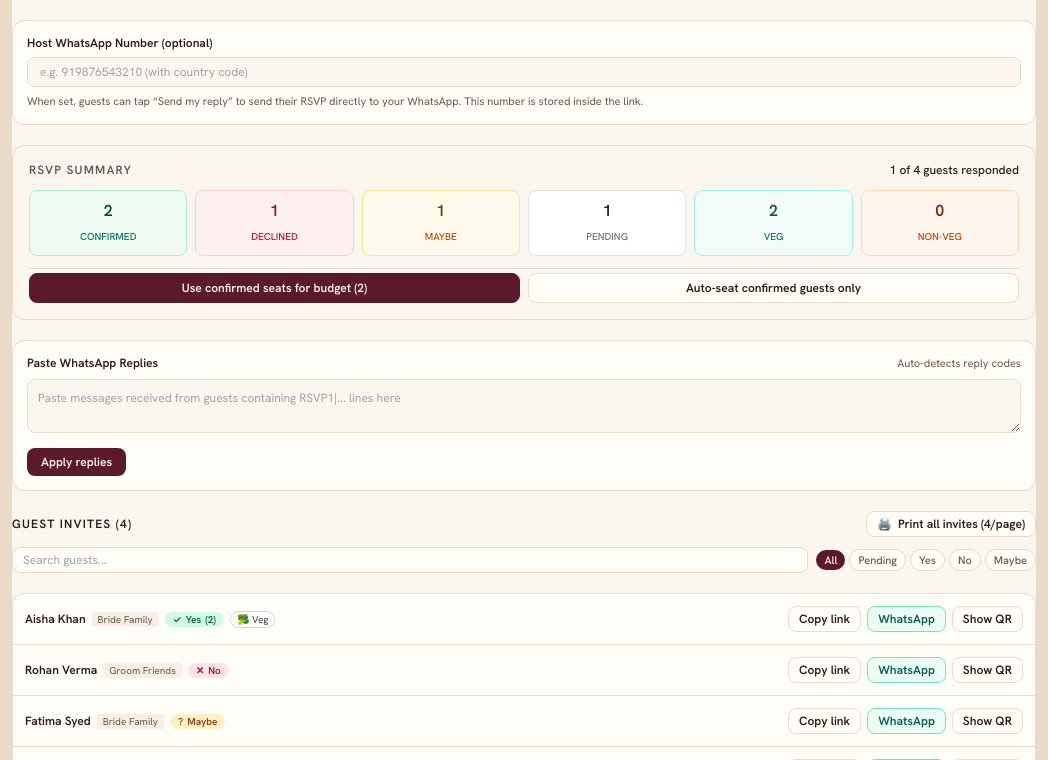
Test case: InvitesPanel (Host Side Management) › handles Paste Replies box: updates valid guests and ignores unknown IDs
Step 1. Replace the text in the text box labelled "Paste WhatsApp Replies" with " Thanks for inviting me! RSVP1|guest-4|yes|2|vegetarian|See you there! Another person: RSVP1|guest-unknown-999|yes|1|either|Who am I? " → coordinates (524, 406), box [27,379,1021,433]
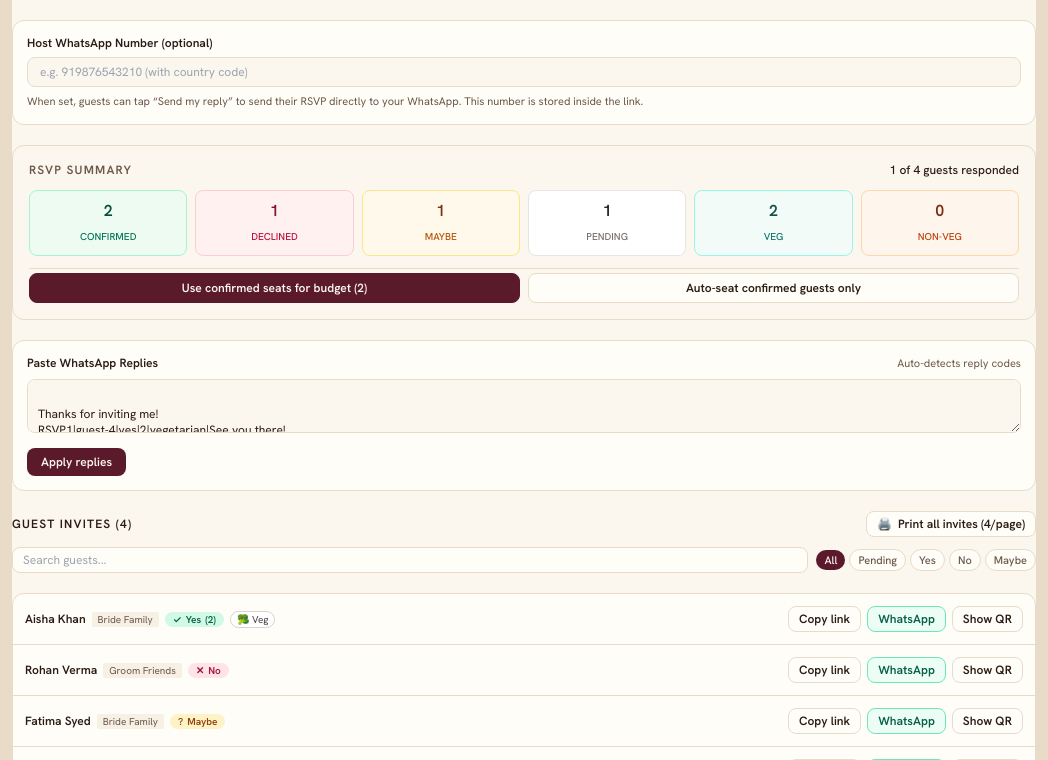
Step 2. Click the button "Apply replies" → coordinates (76, 462), box [27,448,126,476]
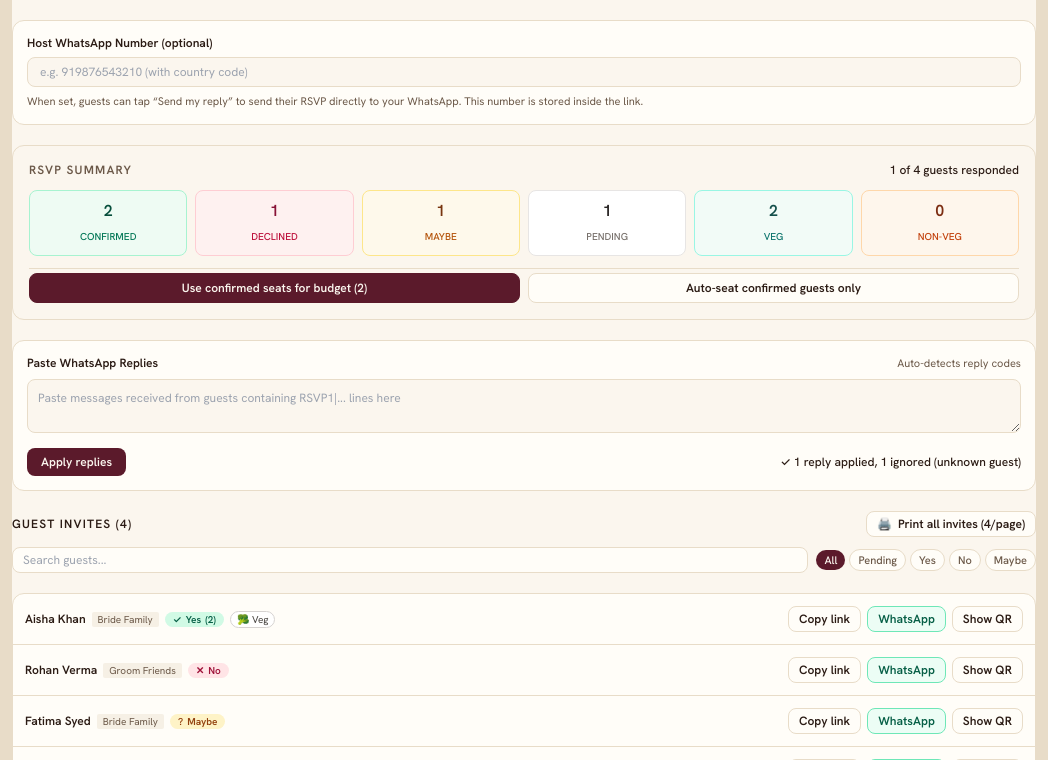
Check: the text "✓ 1 reply applied, 1 ignored (unknown guest)" is shown, box [780,454,1021,470]
